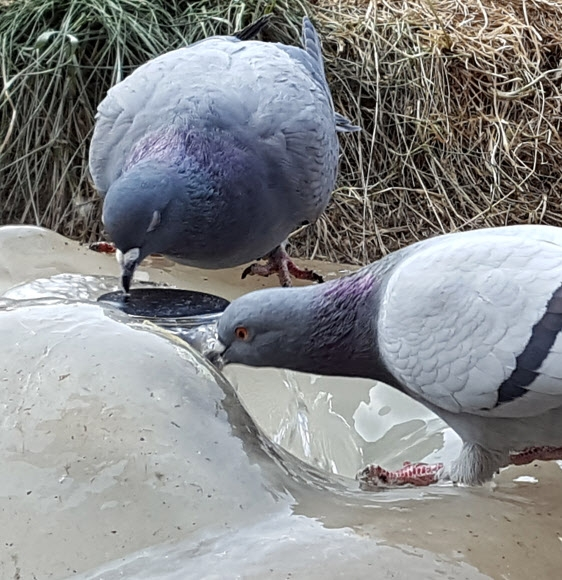pheasant: (206, 221, 559, 485), (107, 16, 345, 281)
